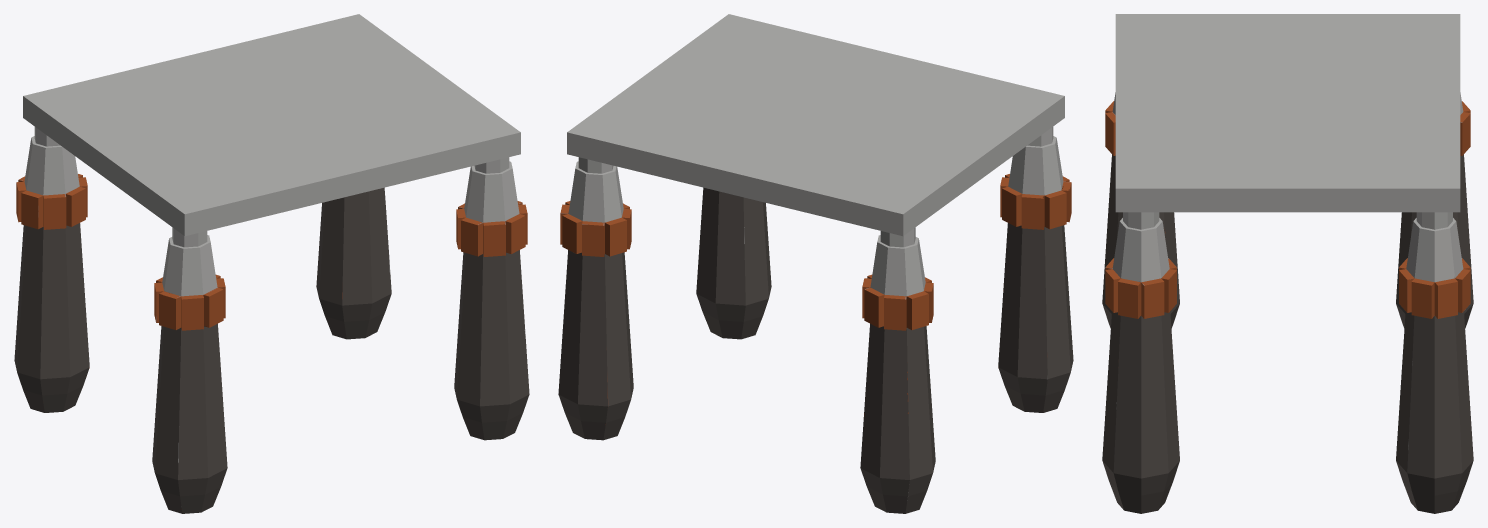
Rendered from oilrig.fbx.
3 renders of one model, left to right at view 1: azimuth 30°, elevation 25°; view 2: azimuth 150°, elevation 25°; view 3: azimuth 270°, elevation 25°, orthographic. The views are drawn at different scales.
Visible parts, largest first — view 1: rig; view 2: rig; view 3: rig.
Part boxes in pixels (bbox=[...]): rig: bbox=[14, 14, 529, 513]; rig: bbox=[558, 14, 1073, 513]; rig: bbox=[1102, 14, 1473, 513].
Bounding box in the file's own units: 3589 × 2793 × 2912.
Materials: 1 (1 with a texture image).
